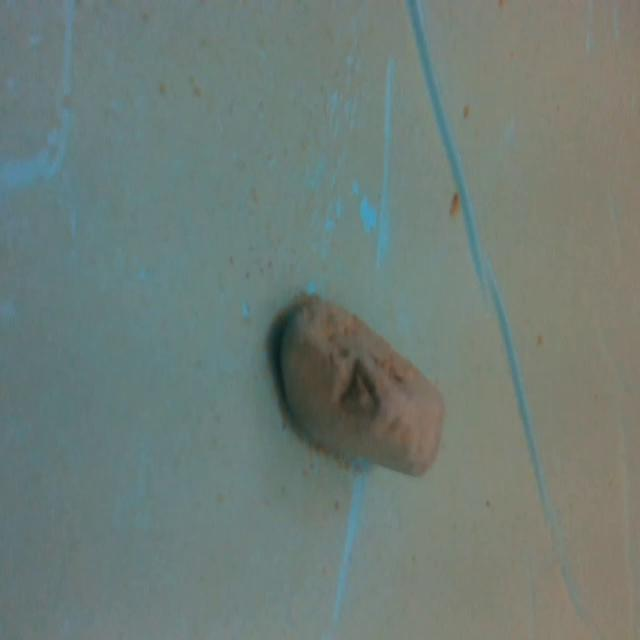rock: (263, 285, 452, 488)
